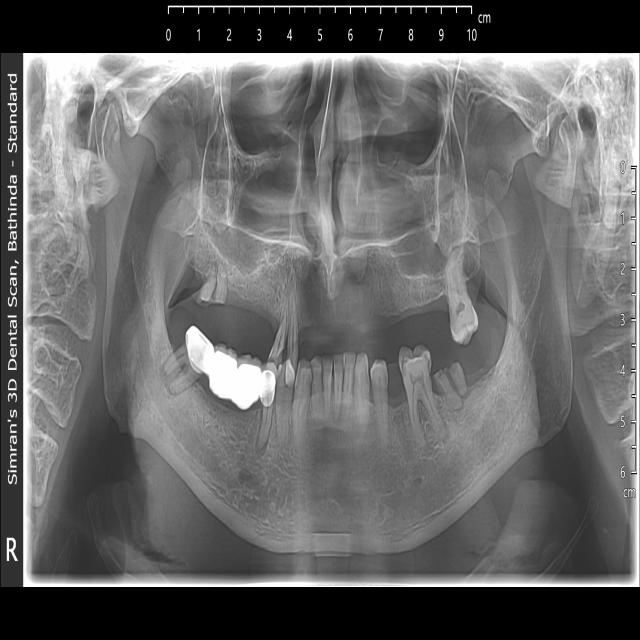Caries: (398, 341, 432, 389)
Crown: (186, 324, 275, 411)
Filling: (276, 359, 296, 389)
Missing teeth: (313, 291, 442, 338), (189, 381, 256, 447), (225, 294, 278, 345), (388, 364, 409, 424)
Periapical lesion: (157, 359, 178, 402), (432, 409, 451, 447), (253, 427, 273, 459)
Root Piece: (434, 366, 467, 414), (198, 267, 226, 303)
